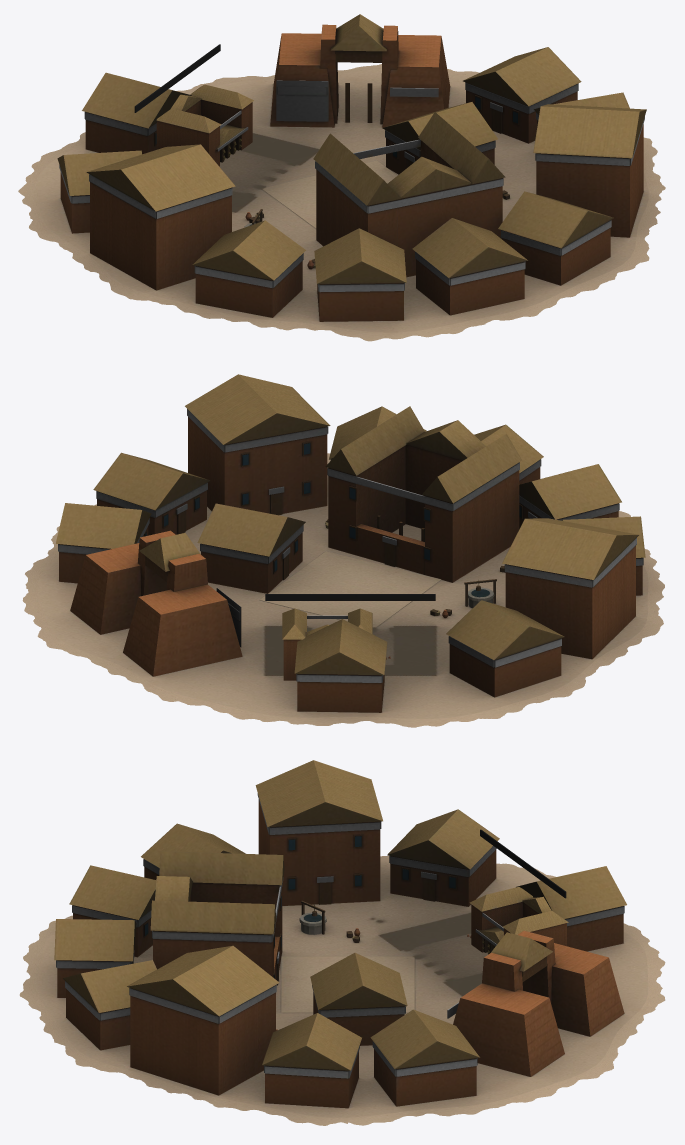
The model's file is classical-town-medium-a-westafrica-bee3eefc.glb.
3 renders of one model, top to bottom at view 1: azimuth 30°, elevation 25°; view 2: azimuth 150°, elevation 25°; view 3: azimuth 270°, elevation 25°, orthographic.
Parts seen in each view (by area): view 1: LOD0; view 2: LOD0; view 3: LOD0.
Part boxes in pixels (x1,y1,x2,y2): LOD0: (18, 14, 665, 341); LOD0: (22, 374, 664, 727); LOD0: (19, 760, 665, 1125).
Size of what is drawn, in the model's own units: 5.96 by 1.05 by 5.91.
Materials: 3 (3 with a texture image).
